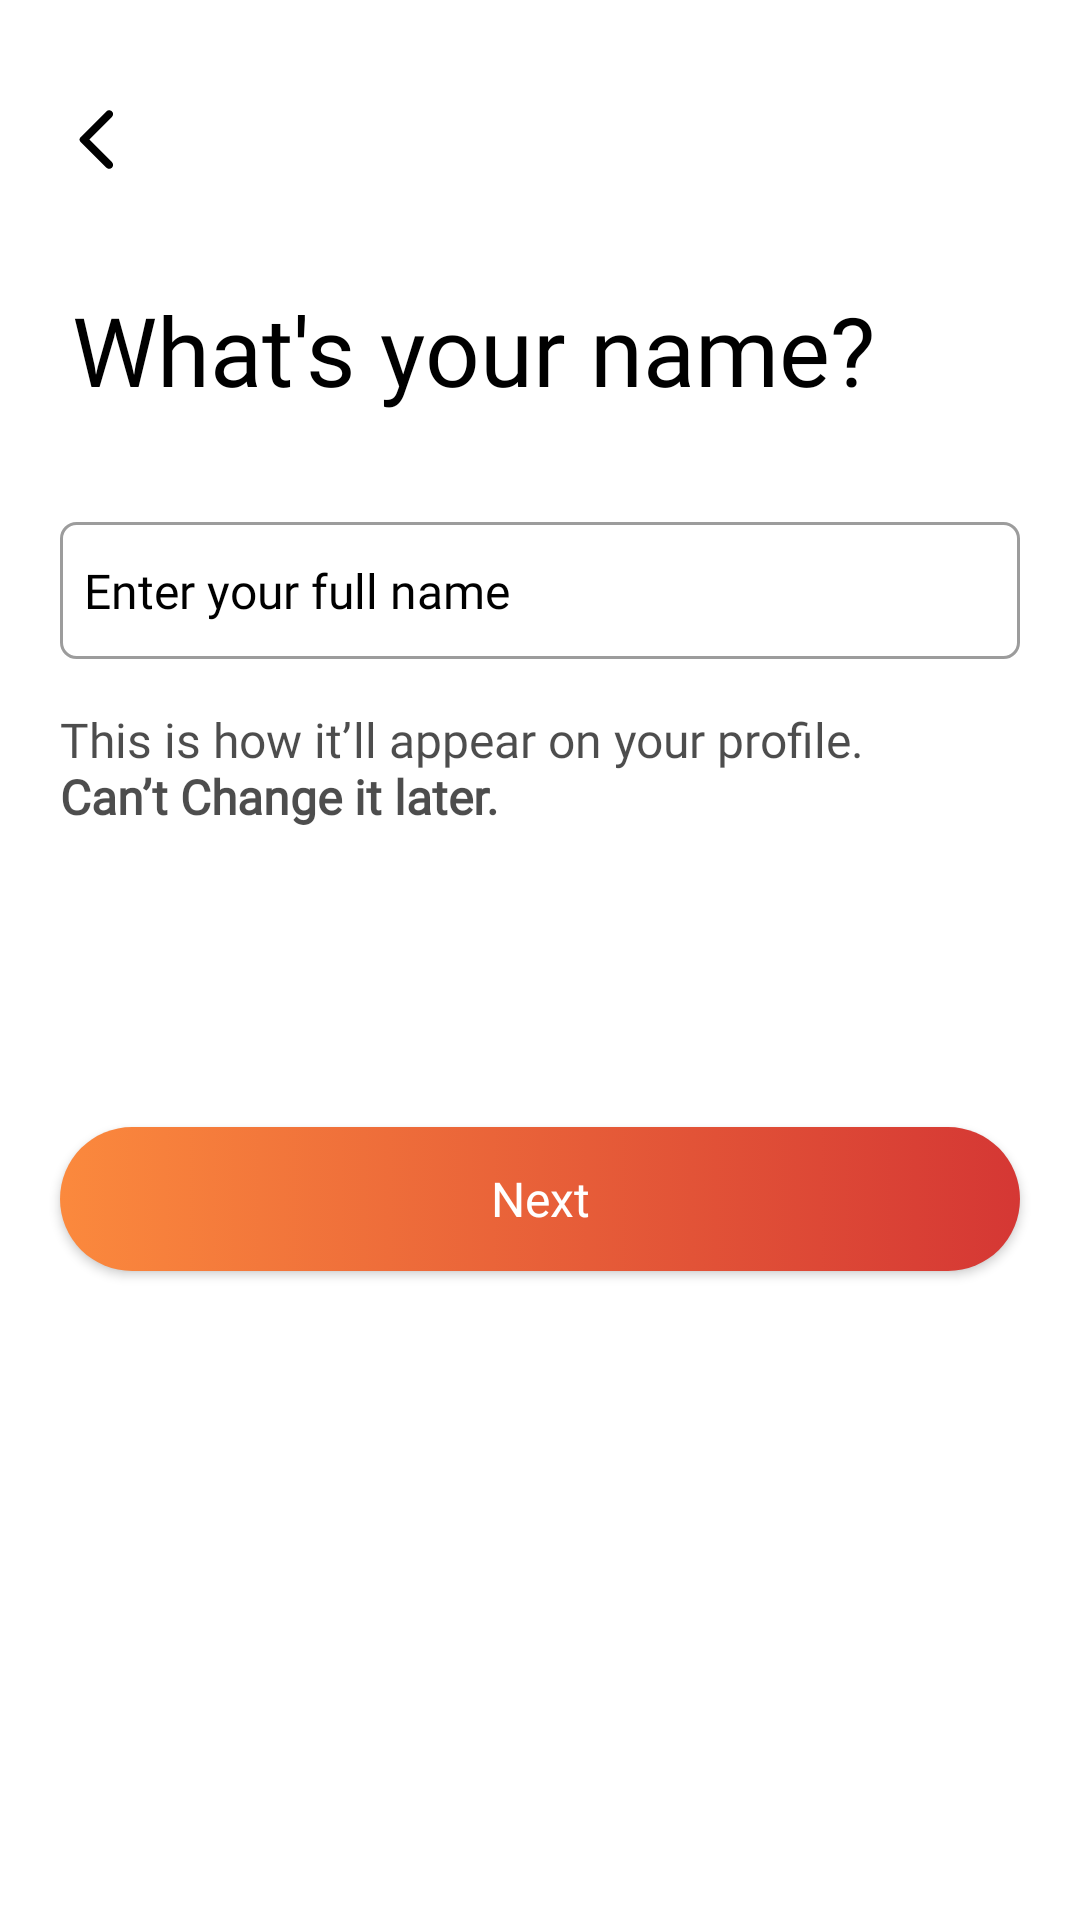

Where icons sit on this 1080×1920 app screen, as (x1, y1, x2, y2):
arrow back: (79, 110, 113, 169)
